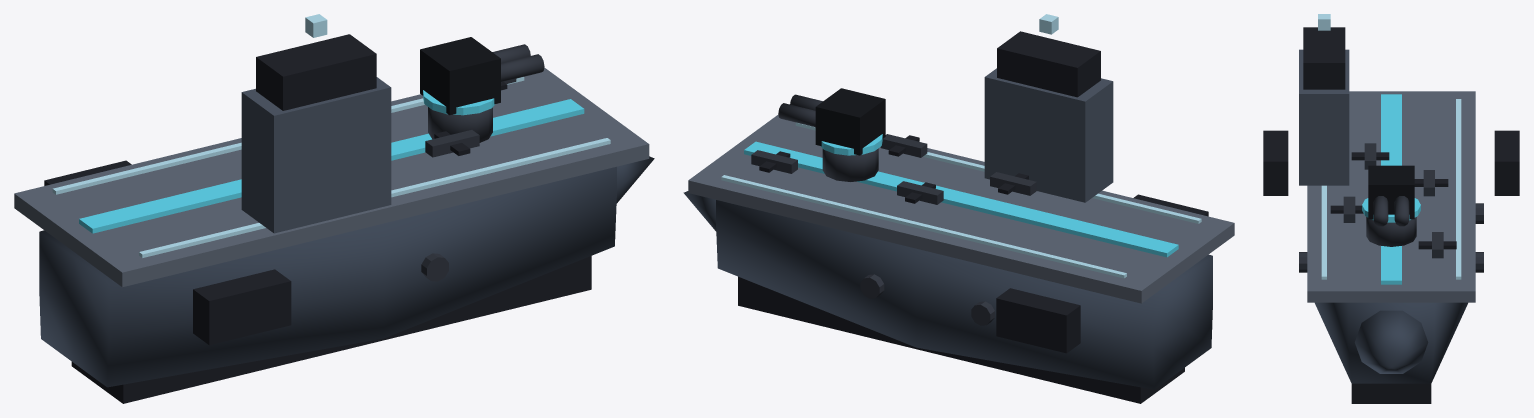
The model's file is Phantom_Fleet.obj.
The picture shows the model from 3 angles, left to right: view 1: azimuth 30°, elevation 25°; view 2: azimuth 150°, elevation 25°; view 3: azimuth 270°, elevation 25°; orthographic projection. The views are drawn at different scales.
Visible parts, largest first — view 1: Phantom_Fleet; view 2: Phantom_Fleet; view 3: Phantom_Fleet.
Part boxes in pixels (x1,y1,x2,y2): Phantom_Fleet: (14, 14, 654, 403); Phantom_Fleet: (683, 14, 1234, 403); Phantom_Fleet: (1263, 14, 1519, 403).
Bounding box in the file's own units: 2.51 × 1.45 × 1.22.
